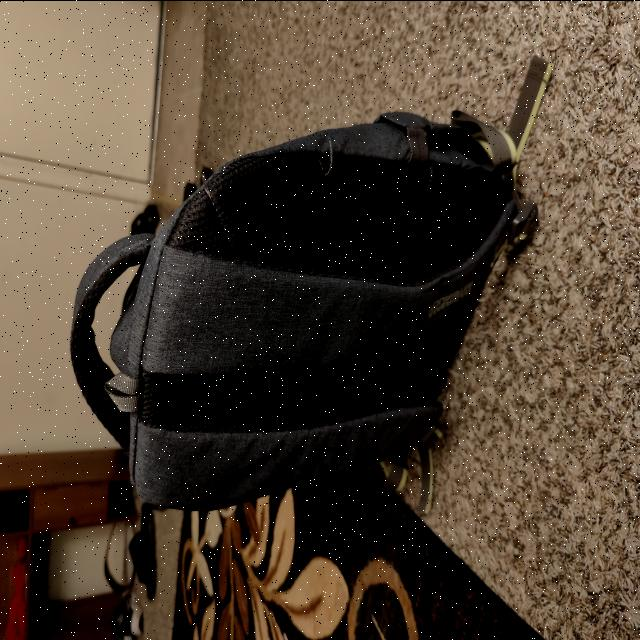bag: (63, 138, 512, 498)
